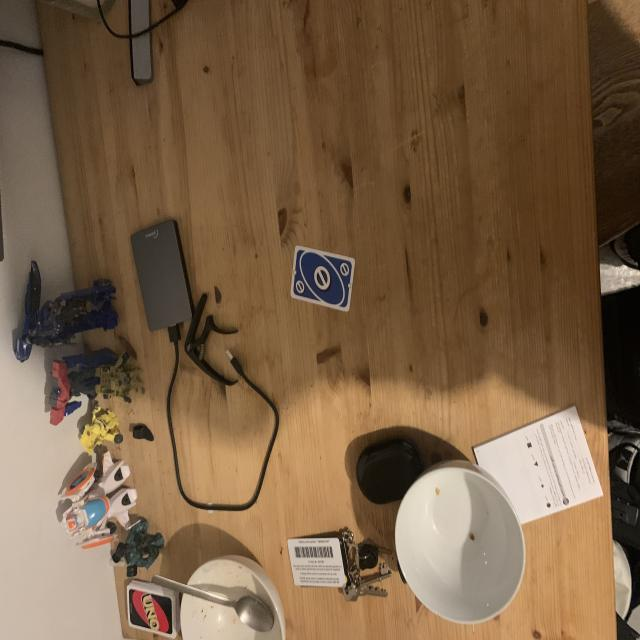lblueskip-20: (294, 279, 306, 295)
